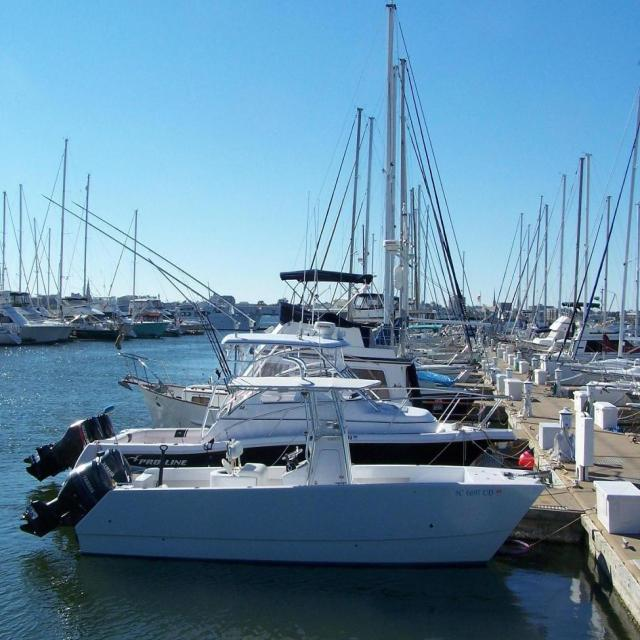houseboat: (89, 417, 535, 565), (103, 363, 536, 482)
